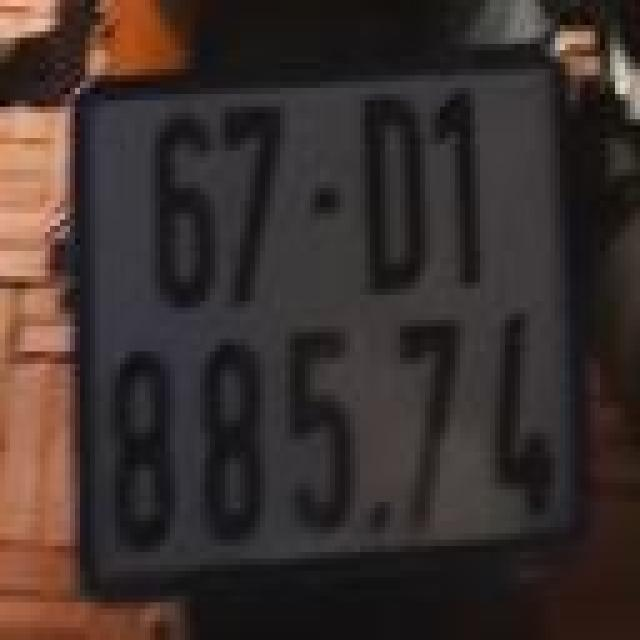1: (428, 91, 492, 292)
4: (482, 298, 572, 530)
5: (282, 323, 362, 537)
6: (132, 107, 218, 320)
7: (380, 314, 465, 533), (222, 103, 282, 317)
8: (100, 352, 185, 558), (195, 329, 270, 549)
D: (348, 88, 432, 295)
